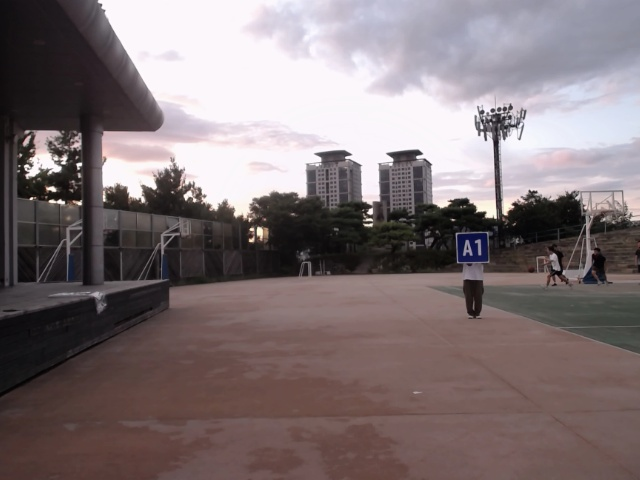delivery_a1: (457, 232, 489, 263)
